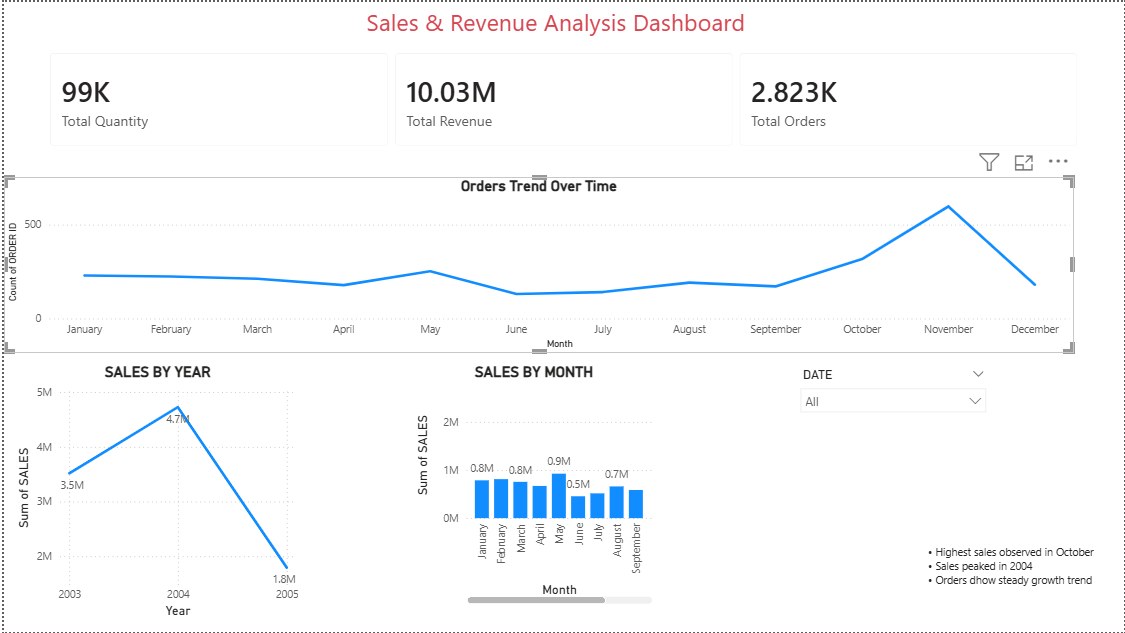

The page's visual inventory and layout, read from the dashboard file:
{"tool":"powerbi","page":{"name":"Page 1","canvas":[1280,720],"ordinal":0},"visuals":[{"type":"lineChart","title":"Orders Trend Over Time","fields":{"Category":["sales_data_sample.DATE.Variation.Date Hierarchy.Month"],"Y":["CountNonNull(sales_data_sample.ORDER ID)"]},"box":[0,199.3,1222.8,201.8],"z":0},{"type":"cardVisual","fields":{"Data":["Sum(sales_data_sample.QUANTITY)","sales_data_sample.Total Revenue","CountNonNull(sales_data_sample.ORDER ID)"]},"box":[35.5,41.6,1208.2,140.6],"z":1},{"type":"lineChart","title":"SALES BY YEAR","fields":{"Y":["Sum(sales_data_sample.SALES)"],"Category":["sales_data_sample.DATE.Variation.Date Hierarchy.Year","sales_data_sample.DATE.Variation.Date Hierarchy.Quarter","sales_data_sample.DATE.Variation.Date Hierarchy.Month","sales_data_sample.DATE.Variation.Date Hierarchy.Day"]},"box":[9.8,413.3,331.4,295.9],"z":4},{"type":"columnChart","title":"SALES BY MONTH","fields":{"Category":["sales_data_sample.DATE.Variation.Date Hierarchy.Month"],"Y":["Sum(sales_data_sample.SALES)"]},"box":[465.9,413.3,280,280],"z":5},{"type":"slicer","fields":{"Values":["sales_data_sample.DATE"]},"box":[900,413.3,232.3,203],"z":6},{"type":"textbox","box":[103.9,0,1052.9,51.4],"z":7},{"type":"textbox","box":[1041.9,616.3,211.6,77],"z":8}]}

Visuals, with their boxes in screenshot pixels (x1, y1, x2, y2), scaled from the page's 1280x720 canvas onto the 1125x633 screenshot:
"Orders Trend Over Time" lineChart: Rect(0, 175, 1075, 353)
cardVisual - Sum(sales_data_sample.QUANTITY) x sales_data_sample.Total Revenue: Rect(31, 37, 1093, 160)
"SALES BY YEAR" lineChart: Rect(9, 363, 300, 624)
"SALES BY MONTH" columnChart: Rect(409, 363, 656, 610)
slicer - sales_data_sample.DATE: Rect(791, 363, 995, 542)
textbox: Rect(91, 0, 1017, 45)
textbox: Rect(916, 542, 1102, 610)
